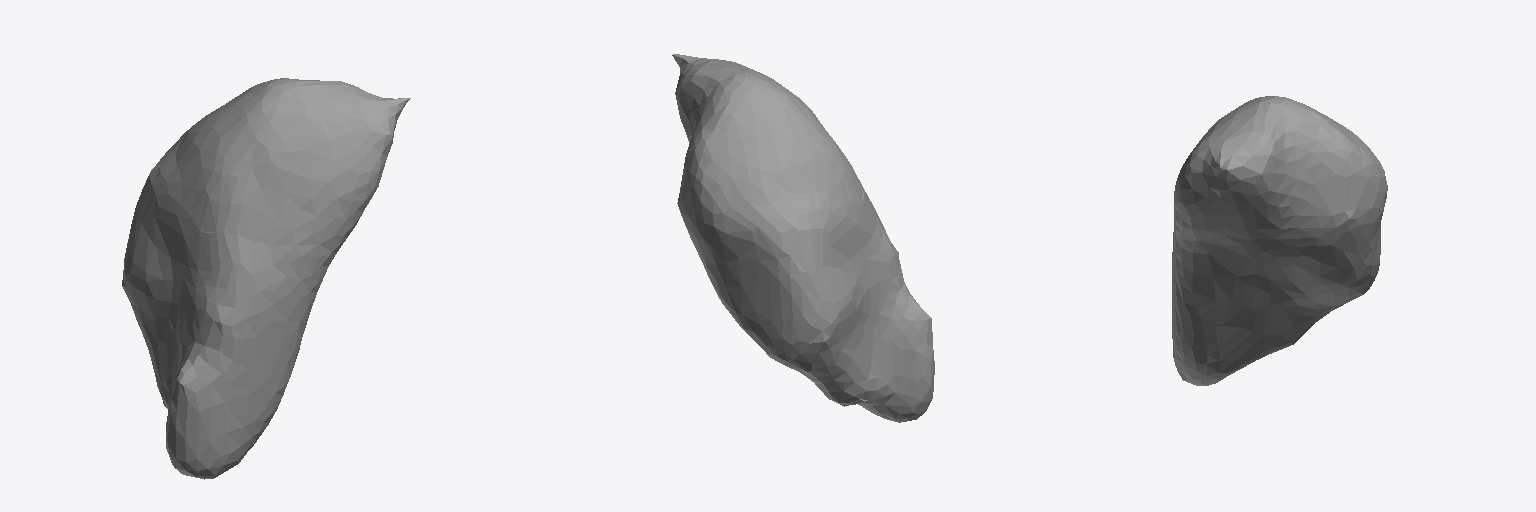
The model's file is L-Amygdala.obj.
3 renders of one model, left to right at view 1: azimuth 30°, elevation 25°; view 2: azimuth 150°, elevation 25°; view 3: azimuth 270°, elevation 25°, orthographic.
Visible parts, largest first — view 1: L-amygdala_amygdala.001; view 2: L-amygdala_amygdala.001; view 3: L-amygdala_amygdala.001.
Boxes of the visible parts, x1=… form: L-amygdala_amygdala.001: x1=122, y1=78, x2=410, y2=479; L-amygdala_amygdala.001: x1=672, y1=54, x2=934, y2=422; L-amygdala_amygdala.001: x1=1172, y1=96, x2=1387, y2=385.
Size of the model in its own units: 22.22 by 28.64 by 16.52.